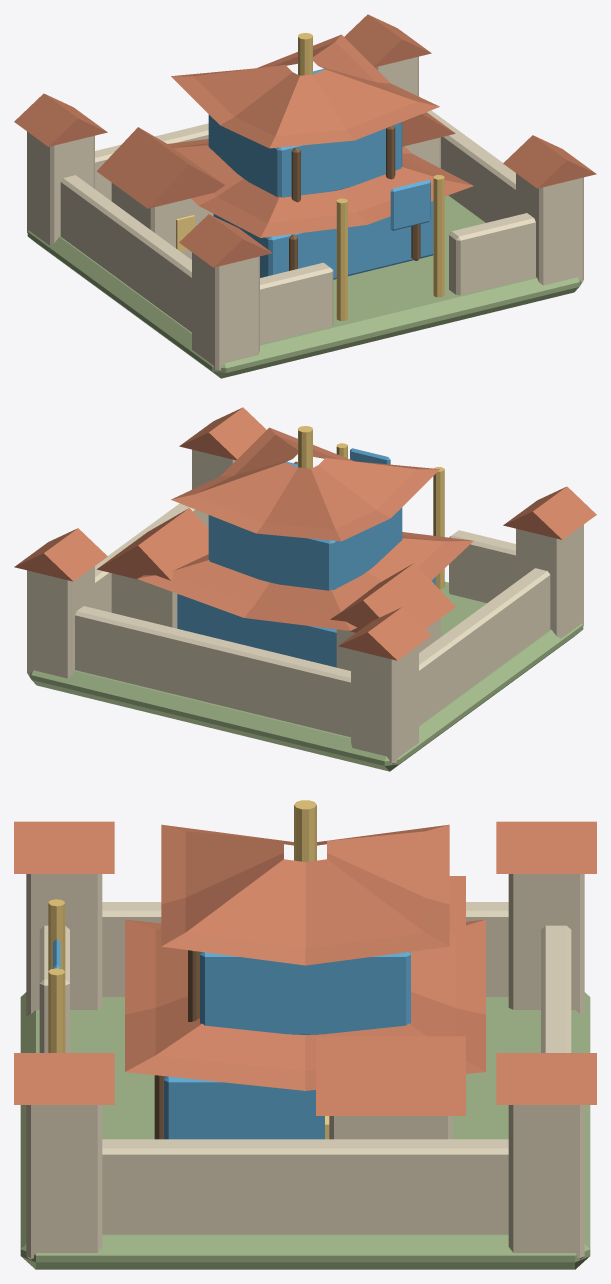
File: CityChinese.fbx
3 renders of one model, top to bottom at view 1: azimuth 30°, elevation 25°; view 2: azimuth 150°, elevation 25°; view 3: azimuth 270°, elevation 25°, orthographic. The views are drawn at different scales.
Parts seen in each view (by area): view 1: CityChinese; view 2: CityChinese; view 3: CityChinese.
Boxes of the visible parts, box(x1,y1,x2,y2) form: CityChinese: box(14, 14, 596, 378); CityChinese: box(14, 407, 596, 771); CityChinese: box(14, 800, 596, 1269).
Bounding box in the file's own units: 3.41 × 1.97 × 3.07.
